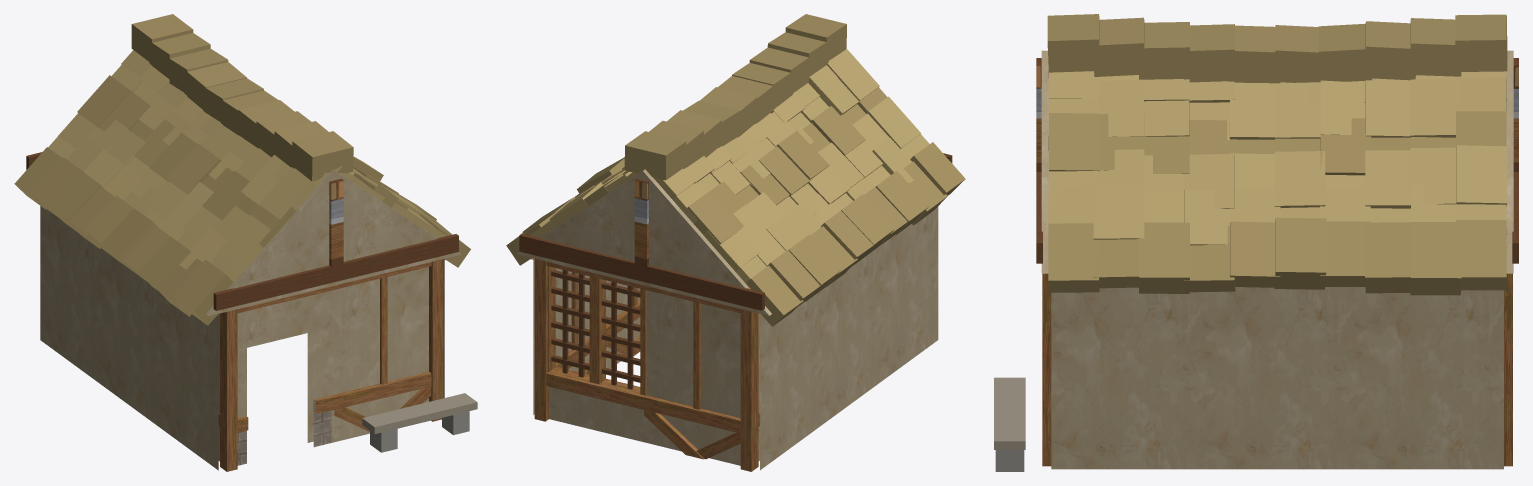
File: town_hall_t1.glb
The picture shows the model from 3 angles, left to right: view 1: azimuth 30°, elevation 25°; view 2: azimuth 150°, elevation 25°; view 3: azimuth 270°, elevation 25°; orthographic projection. The views are drawn at different scales.
Visible parts, largest first — view 1: hall_t1_thatch, Wall_Plaster_Straight_inst.001, gable, Wall_Plaster_Straight_inst.002, Wall_Plaster_Straight_inst.004, Wall_Plaster_Straight_inst.006, Wall_Plaster_Door_Flat_inst, gable_timber, Corner_Exterior_Wood_inst, bench_seat, Corner_Exterior_Wood_inst.002, gable_timber.001 (+2 smaller); view 2: hall_t1_thatch, Wall_Plaster_Straight_inst, Wall_Plaster_WoodGrid_inst, gable.001, Wall_Plaster_Straight_inst.006, Wall_Plaster_Straight_inst.004, Wall_Plaster_Straight_inst.002, gable_timber.002, Corner_Exterior_Wood_inst.001, Corner_Exterior_Wood_inst.003, Wall_Plaster_Straight_inst.007, gable_timber.003 (+1 smaller); view 3: hall_t1_thatch, Wall_Plaster_Straight_inst.005, Wall_Plaster_Straight_inst.003, Wall_Plaster_Straight_inst.007, bench_seat, Corner_Exterior_Wood_inst.002, gable, Corner_Exterior_Wood_inst.003, gable.001, gable_timber.001, gable_timber.003, bench_leg.001 (+2 smaller).
Boxes of the visible parts, x1,y1,x2,y2 form: hall_t1_thatch: [14, 14, 470, 325]; Wall_Plaster_Straight_inst.001: [331, 262, 431, 442]; gable: [206, 169, 461, 315]; Wall_Plaster_Straight_inst.002: [159, 292, 219, 470]; Wall_Plaster_Straight_inst.004: [99, 248, 158, 426]; Wall_Plaster_Straight_inst.006: [40, 206, 99, 383]; Wall_Plaster_Door_Flat_inst: [237, 285, 334, 465]; gable_timber: [213, 234, 458, 310]; Corner_Exterior_Wood_inst: [220, 309, 237, 471]; bench_seat: [362, 393, 477, 433]; Corner_Exterior_Wood_inst.002: [429, 259, 443, 421]; gable_timber.001: [329, 178, 343, 266]; hall_t1_thatch: [506, 14, 965, 326]; Wall_Plaster_Straight_inst: [644, 285, 740, 465]; Wall_Plaster_WoodGrid_inst: [546, 261, 646, 442]; gable.001: [516, 169, 771, 315]; Wall_Plaster_Straight_inst.006: [758, 292, 819, 470]; Wall_Plaster_Straight_inst.004: [819, 247, 878, 426]; Wall_Plaster_Straight_inst.002: [879, 206, 938, 382]; gable_timber.002: [519, 233, 764, 310]; Corner_Exterior_Wood_inst.001: [740, 309, 758, 471]; Corner_Exterior_Wood_inst.003: [534, 259, 548, 421]; Wall_Plaster_Straight_inst.007: [531, 258, 607, 414]; gable_timber.003: [634, 178, 648, 266]; hall_t1_thatch: [1047, 14, 1507, 295]; Wall_Plaster_Straight_inst.005: [1202, 287, 1352, 469]; Wall_Plaster_Straight_inst.003: [1051, 287, 1202, 469]; Wall_Plaster_Straight_inst.007: [1353, 287, 1503, 469]; bench_seat: [994, 377, 1025, 449]; Corner_Exterior_Wood_inst.002: [1042, 273, 1051, 466]; gable: [1041, 50, 1048, 273]; Corner_Exterior_Wood_inst.003: [1504, 273, 1512, 466]; gable.001: [1506, 50, 1513, 273]; gable_timber.001: [1036, 58, 1041, 171]; gable_timber.003: [1513, 58, 1518, 171]; bench_leg.001: [995, 450, 1024, 471].
Bounding box in the file's own units: 5.48 × 5.46 × 6.96.
12 materials, 8 textured.
